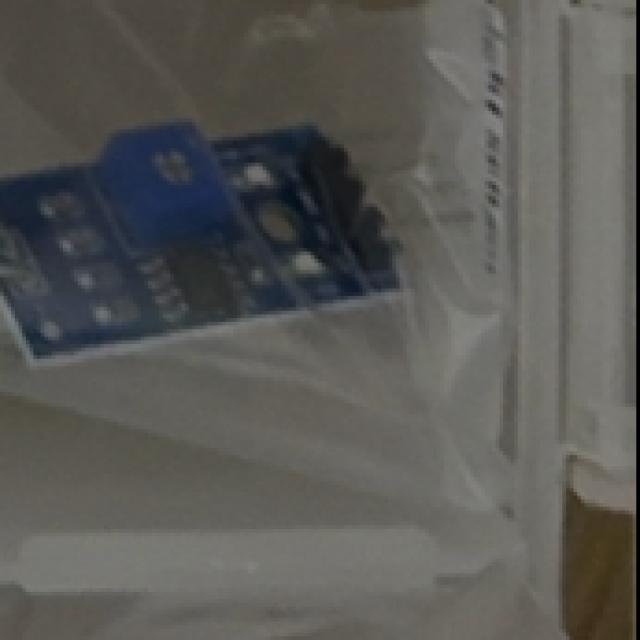Light Sensor: (0, 110, 475, 376)
